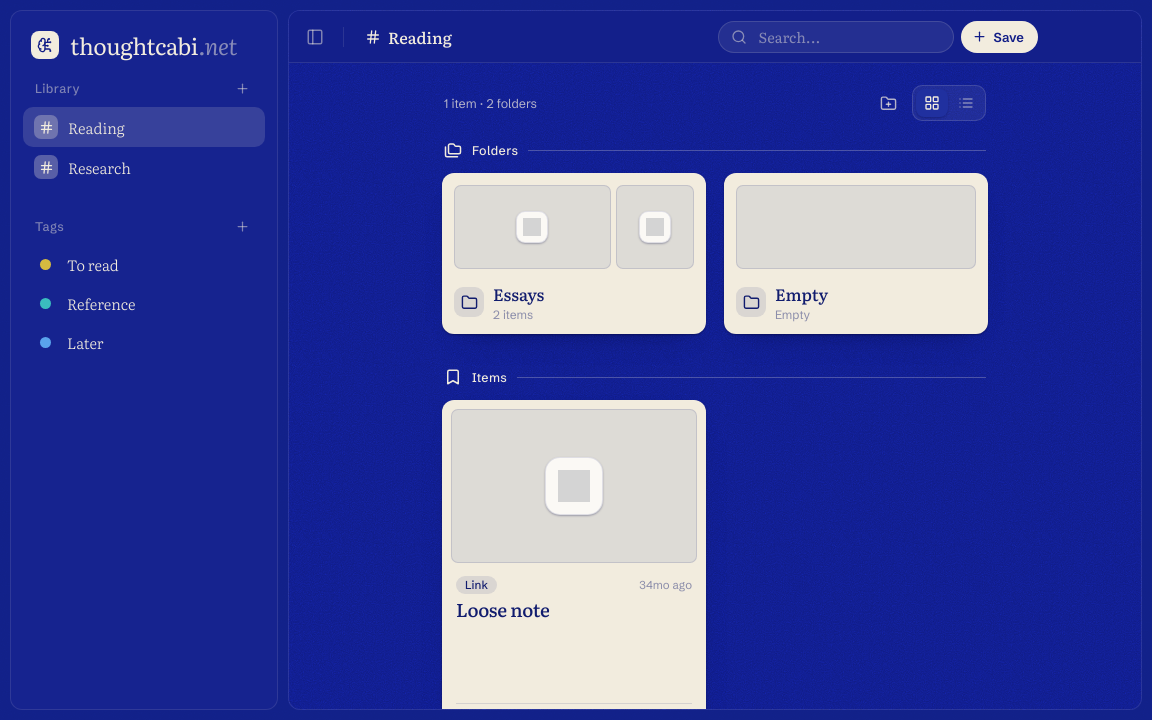
App › on a phone › opens the shelves in a drawer and closes it once one is picked
Click the button named "Shelves and tags" at x=315, y=36, box [299, 20, 331, 52]
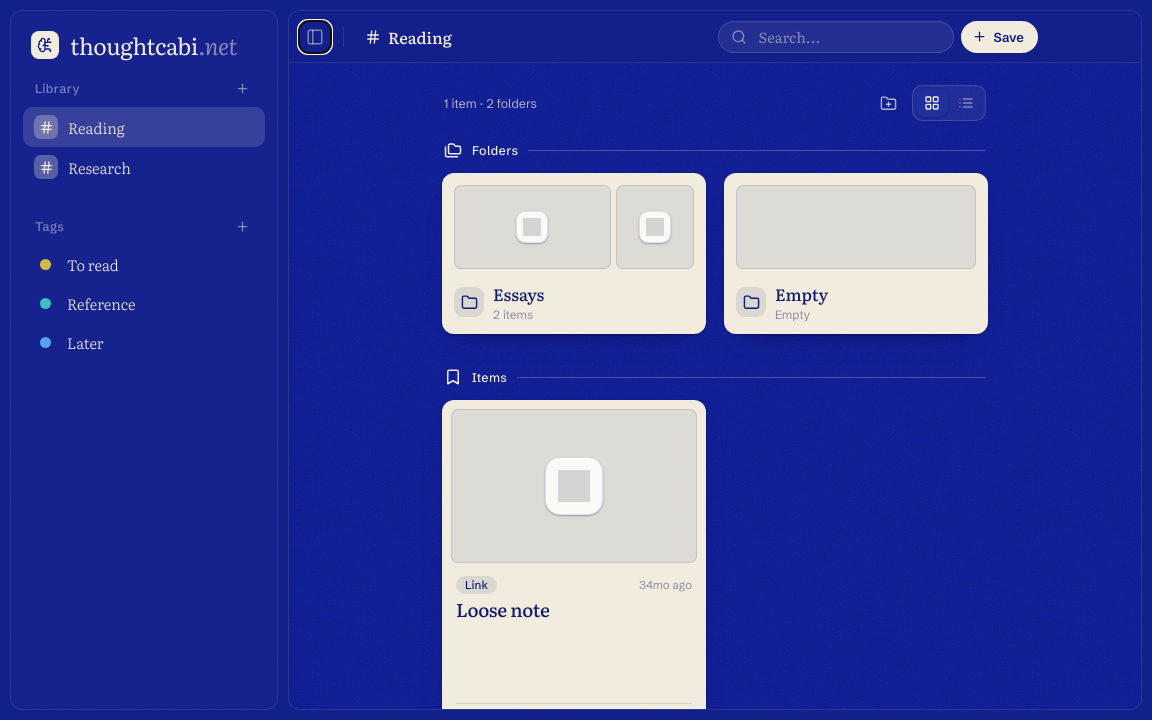
Click the text "Research" at x=99, y=167, box [68, 156, 131, 178]
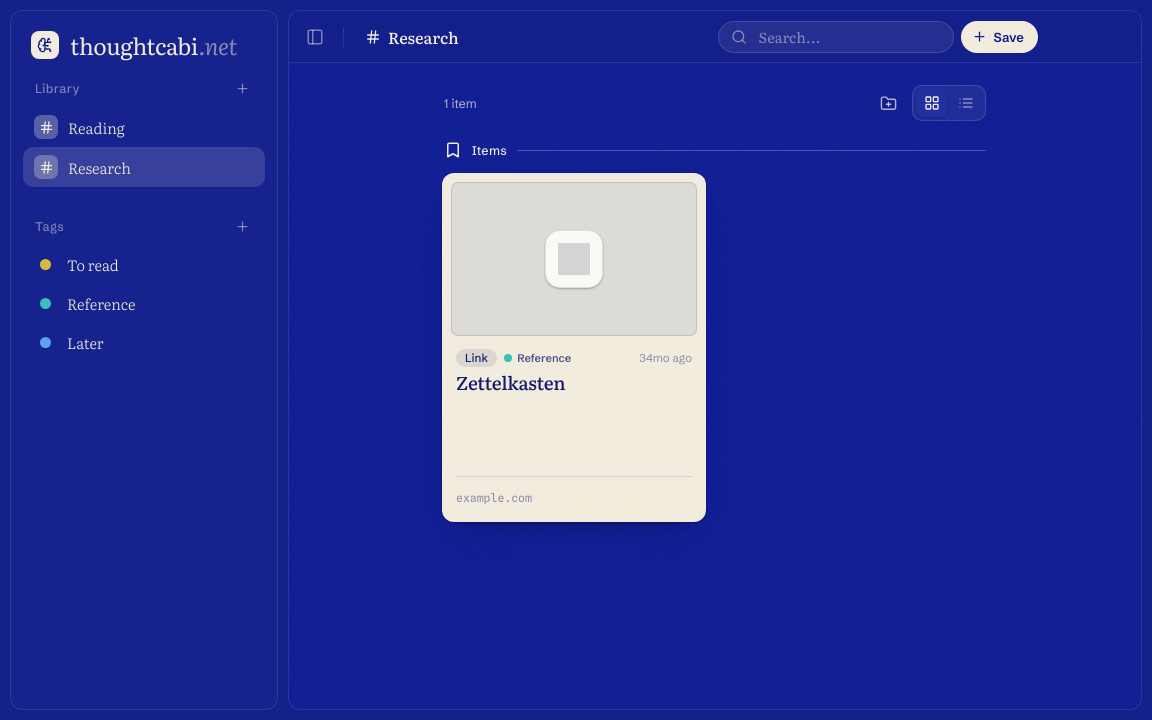
expect the text "Zettelkasten" is shown: met, box [456, 368, 565, 396]
